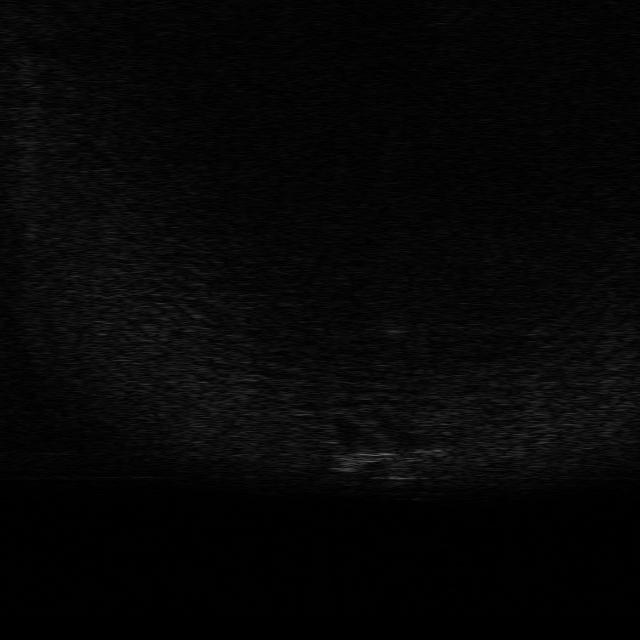plane: (322, 430, 450, 484)
